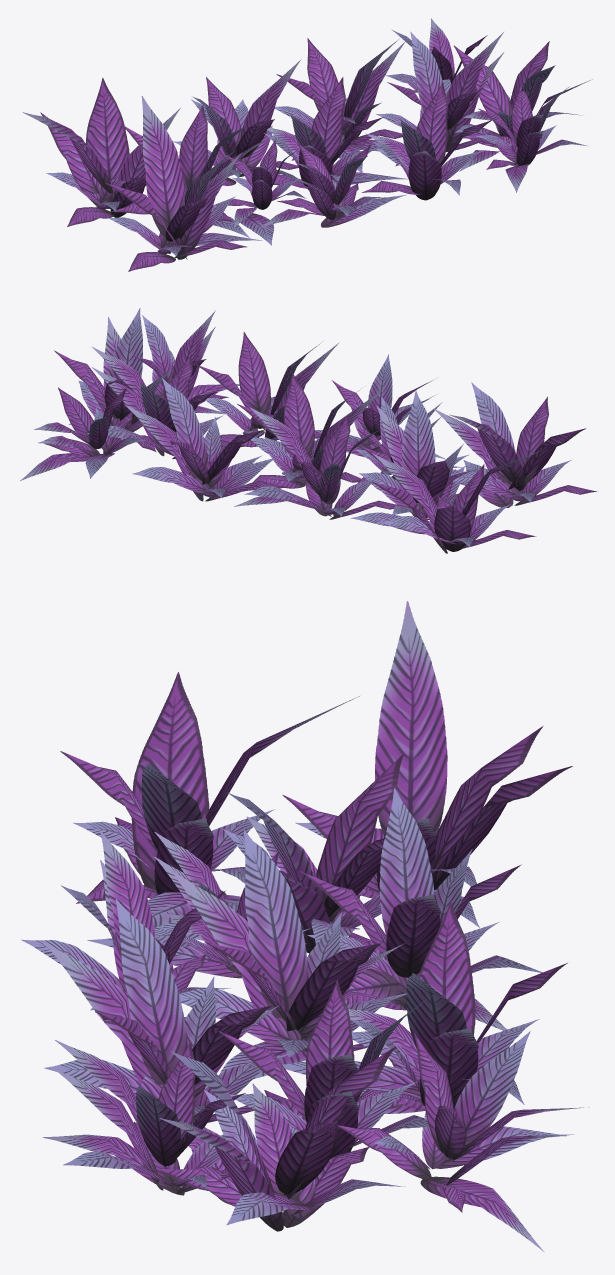
File: bush_2_grand.fbx
3 renders of one model, top to bottom at view 1: azimuth 30°, elevation 25°; view 2: azimuth 150°, elevation 25°; view 3: azimuth 270°, elevation 25°, orthographic. The views are drawn at different scales.
Visible parts, largest first — view 1: feuillage_2_grand; view 2: feuillage_2_grand; view 3: feuillage_2_grand.
Part boxes in pixels (x1=…): feuillage_2_grand: x1=22, y1=18, x2=592, y2=271; feuillage_2_grand: x1=20, y1=308, x2=596, y2=553; feuillage_2_grand: x1=21, y1=601, x2=589, y2=1252.
Size of the model in its own units: 226 by 54.66 by 120.
